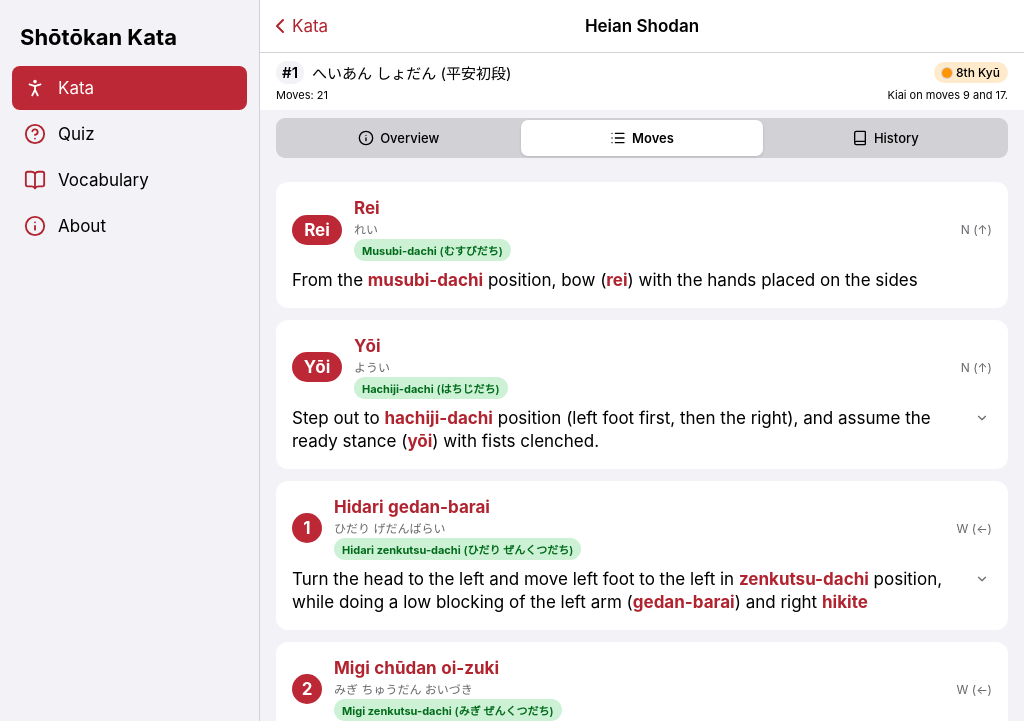
KataDetailScreen › switches to the Overview tab
Click the tab "Overview" at (399, 138), box [278,120,519,156]
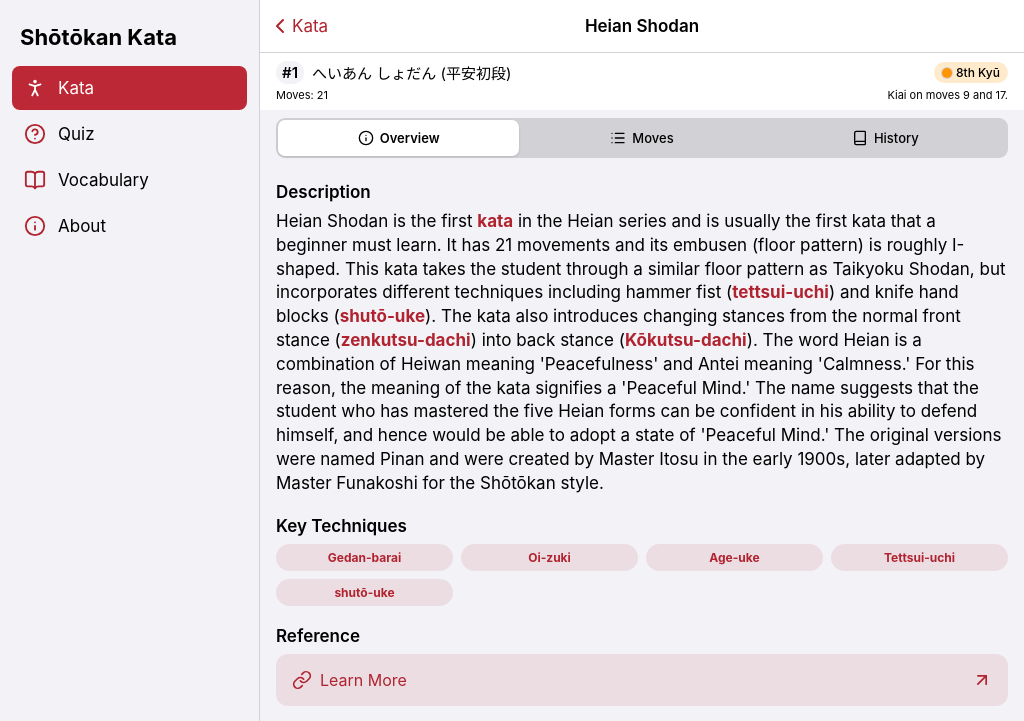
Check: the heading "Description" is shown, box [276,182,371,202]
